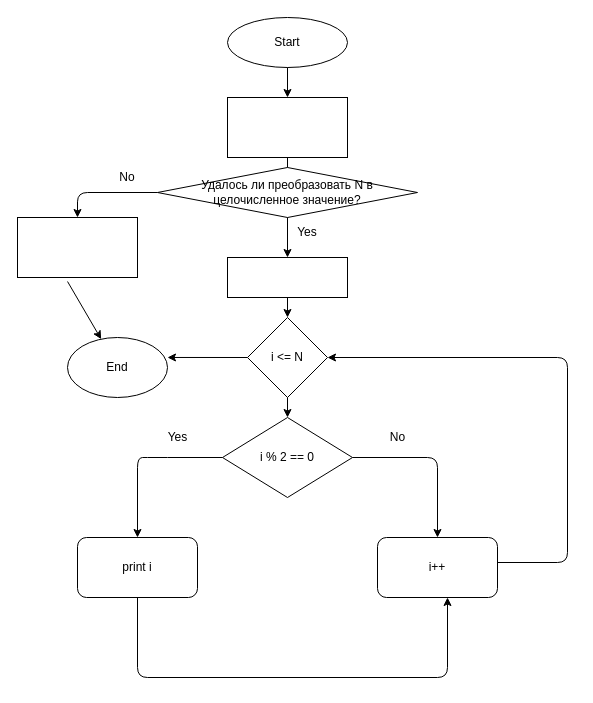
This 593x703 diagram has some shape labels left out. Each missing label, with the box of its shape:
i = 1: (226, 256, 348, 298)
Ввести N: (226, 96, 348, 158)
Вы ввели неверные символы: (16, 216, 138, 278)
